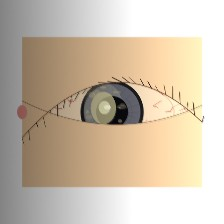corneal_ulcer: (77, 87, 130, 129)
